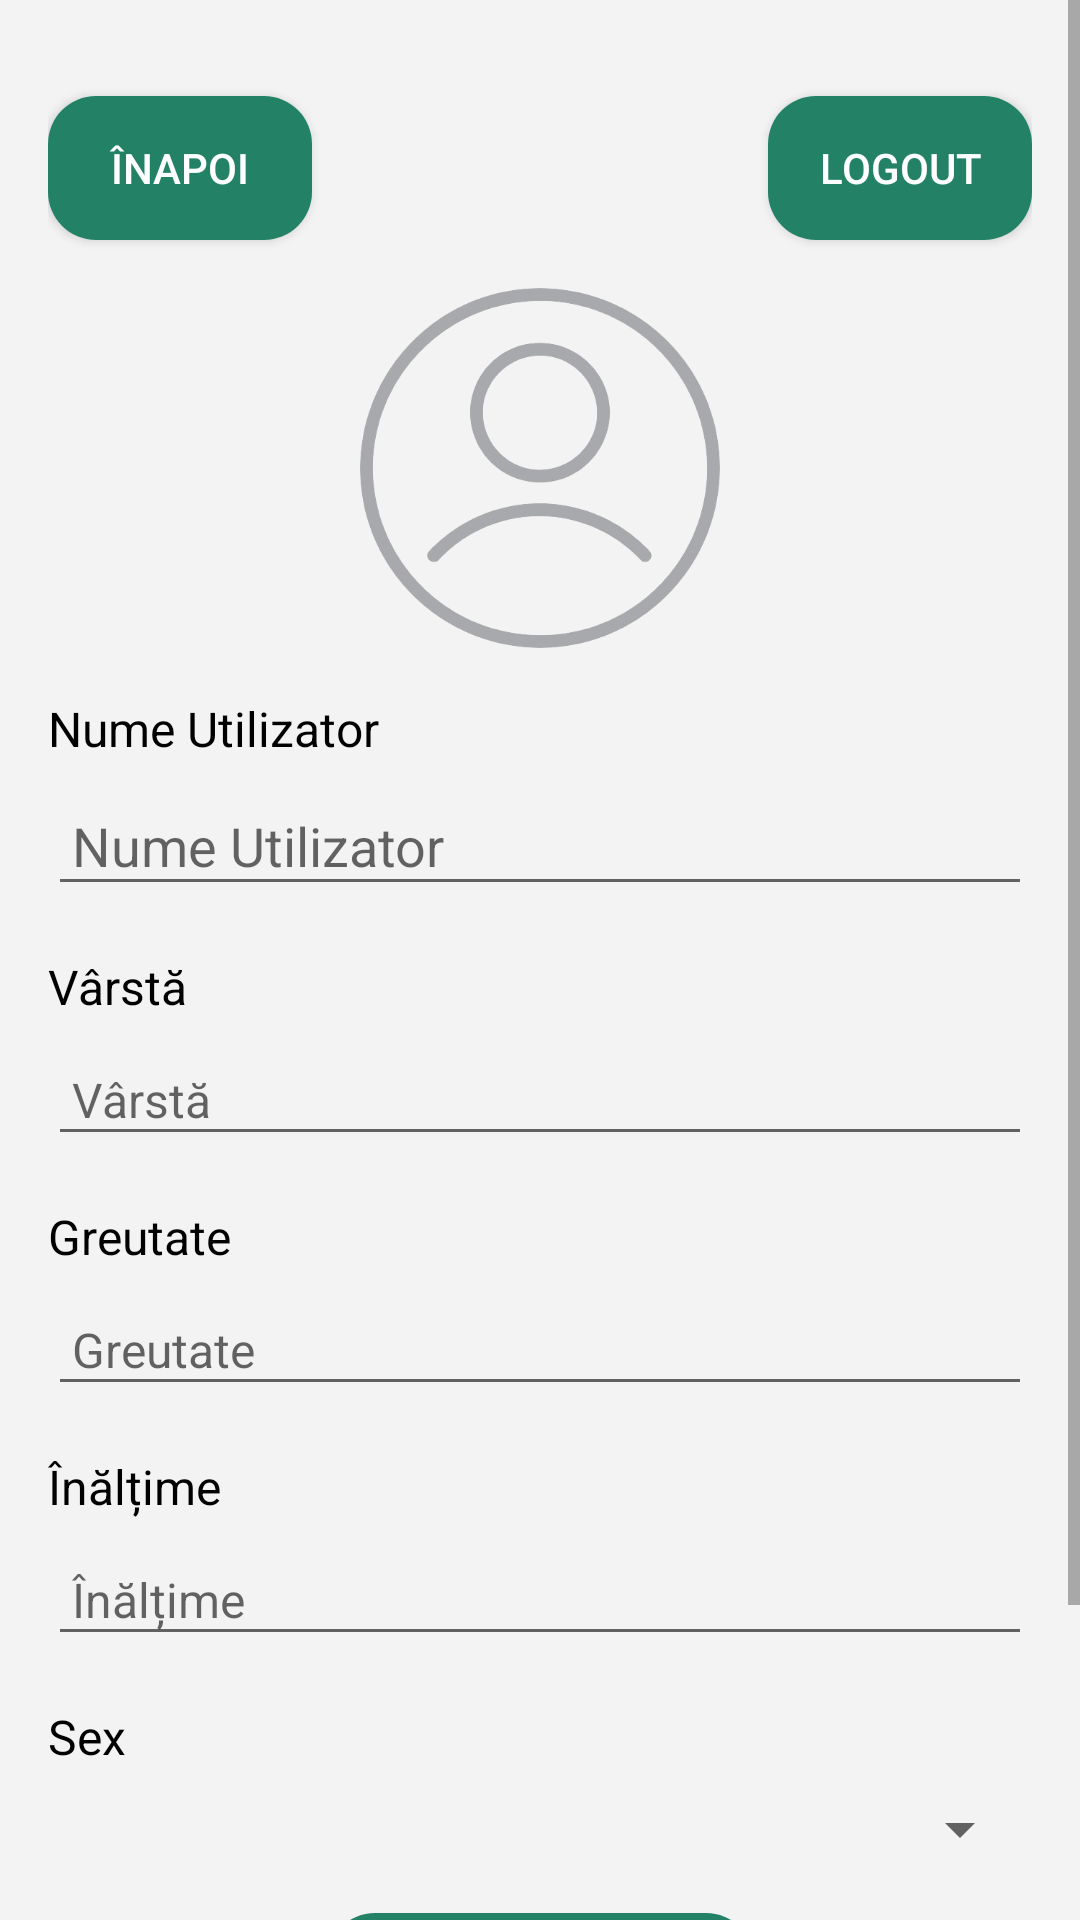

Screen size 1080w x 1920h. Icon name, then its center in pixels as (x=x, y=y):
Profile Image: (x=540, y=468)
